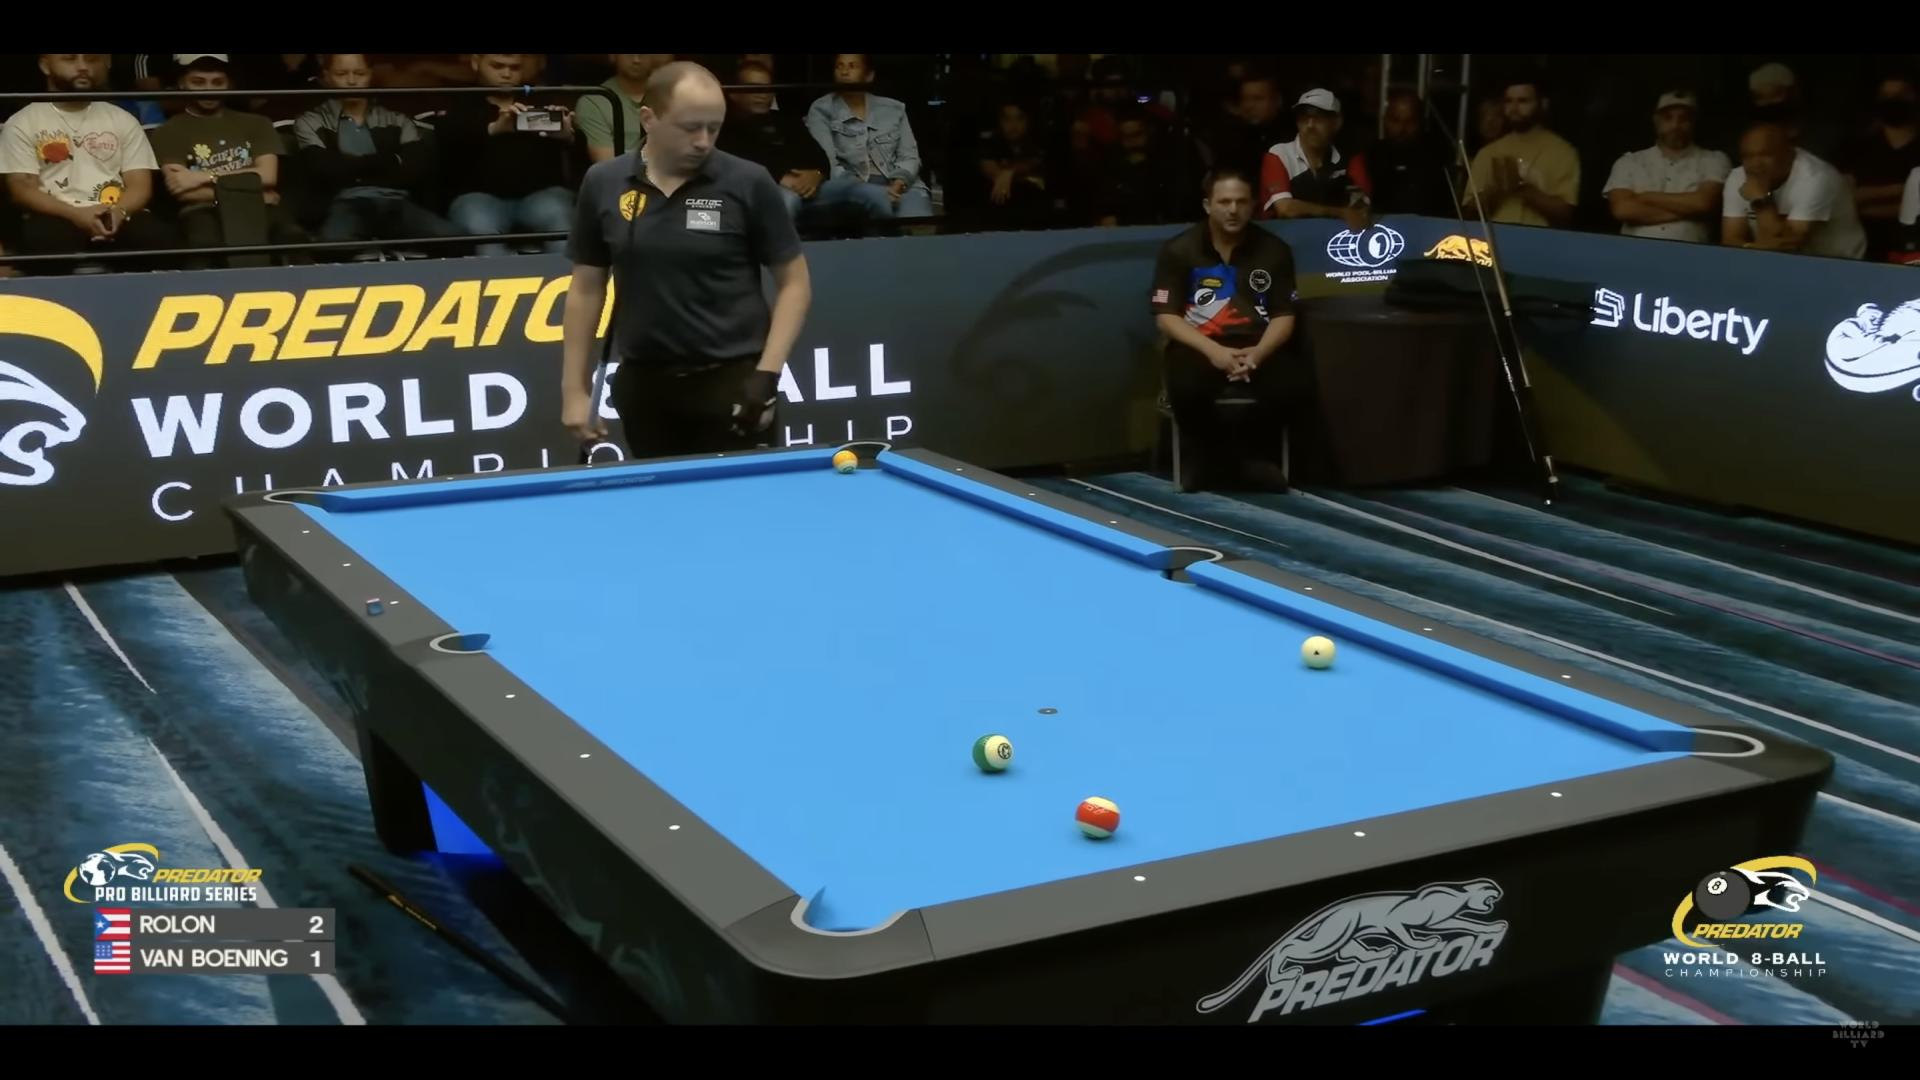Cue: (1302, 636, 1336, 669)
Dot: (1556, 666, 1578, 687), (1348, 824, 1371, 844), (1545, 785, 1568, 804), (1416, 621, 1439, 641), (1298, 579, 1320, 599), (498, 687, 520, 705), (665, 819, 684, 837), (576, 748, 596, 766), (336, 559, 356, 578), (382, 595, 402, 612), (1129, 872, 1149, 889), (1109, 517, 1118, 526), (585, 463, 593, 469), (446, 475, 454, 481), (302, 529, 310, 535), (956, 467, 961, 472), (717, 452, 723, 458), (1030, 492, 1034, 497)
Striped: (1075, 796, 1121, 839), (972, 733, 1014, 773), (832, 450, 858, 473)
